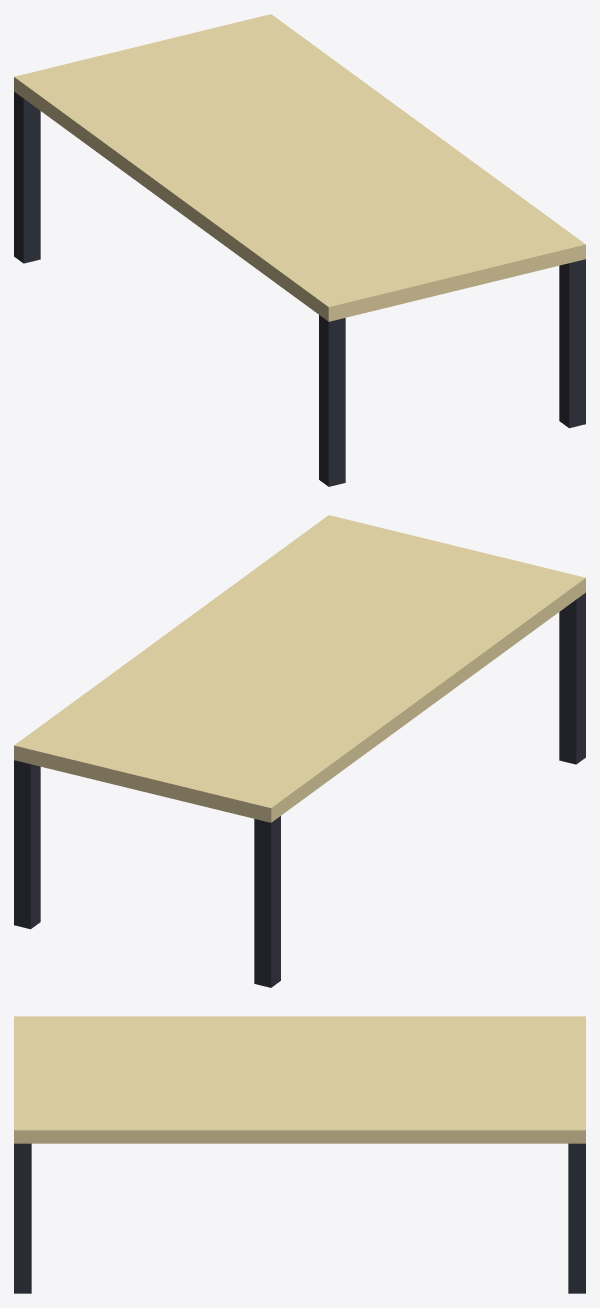
File: fbx_club_desk.fbx
3 renders of one model, top to bottom at view 1: azimuth 30°, elevation 25°; view 2: azimuth 150°, elevation 25°; view 3: azimuth 270°, elevation 25°, orthographic. The views are drawn at different scales.
Visible parts, largest first — view 1: fbx_club_desk; view 2: fbx_club_desk; view 3: fbx_club_desk.
Part boxes in pixels (<box>): fbx_club_desk: <box>14,14,585,486</box>; fbx_club_desk: <box>14,515,585,987</box>; fbx_club_desk: <box>14,1016,585,1293</box>.
Bounding box in the file's own units: 1.85 × 1.24 × 3.92.
Materials: 1 (1 with a texture image).
